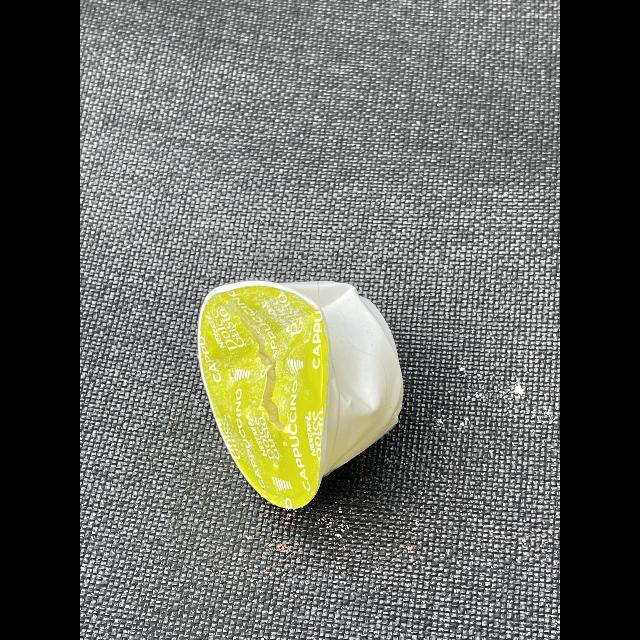damaged_capsule: (188, 262, 428, 526)
